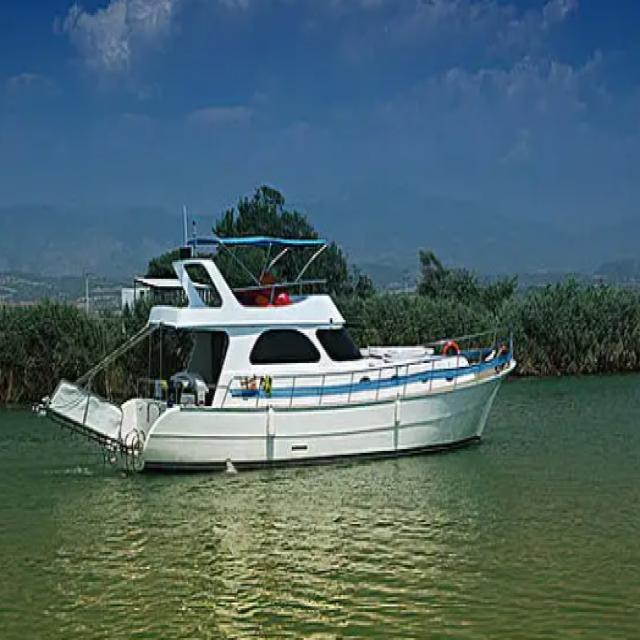houseboat: (36, 241, 518, 477)
